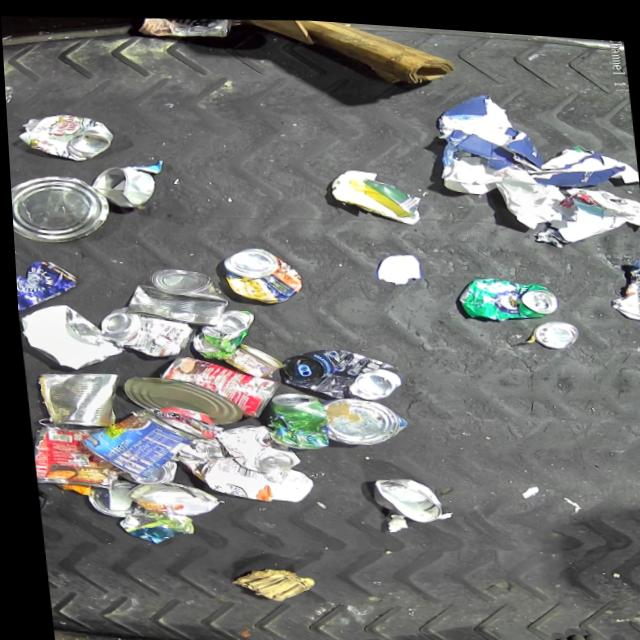can: (69, 400, 195, 482), (152, 349, 277, 422), (8, 170, 110, 248), (276, 339, 399, 403), (116, 262, 227, 331), (117, 370, 237, 428), (25, 422, 112, 493), (13, 109, 113, 166), (94, 302, 190, 361), (31, 369, 120, 431), (452, 267, 557, 319), (217, 241, 300, 305), (208, 417, 297, 473), (318, 390, 405, 446), (259, 385, 326, 448), (119, 476, 216, 518), (12, 258, 79, 316), (184, 304, 254, 359), (368, 470, 442, 521), (85, 163, 151, 211), (135, 12, 232, 41), (217, 338, 279, 378), (79, 477, 134, 520), (112, 456, 174, 485), (528, 312, 577, 344)
